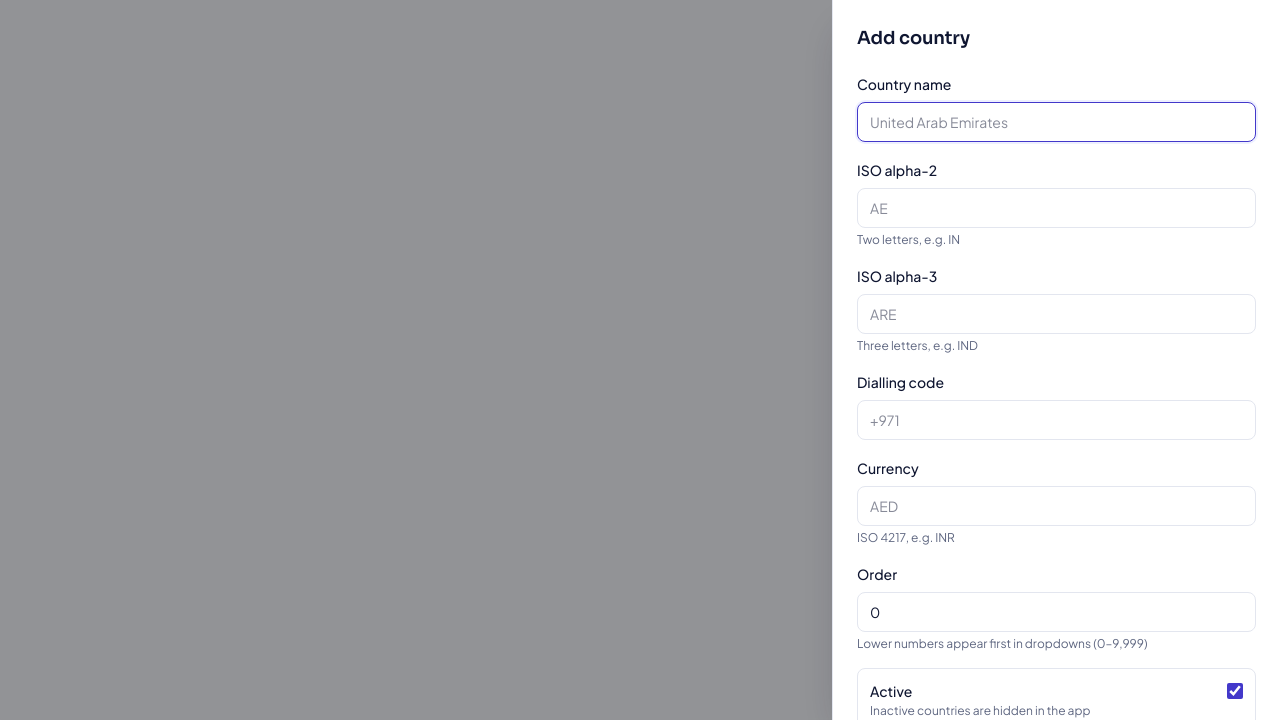
Test case: MasterFormDrawer — create › disables the buttons while saving
Type "Nepal" into the field labelled "Country name". click: (1056, 122)
box: [857, 102, 1256, 142]
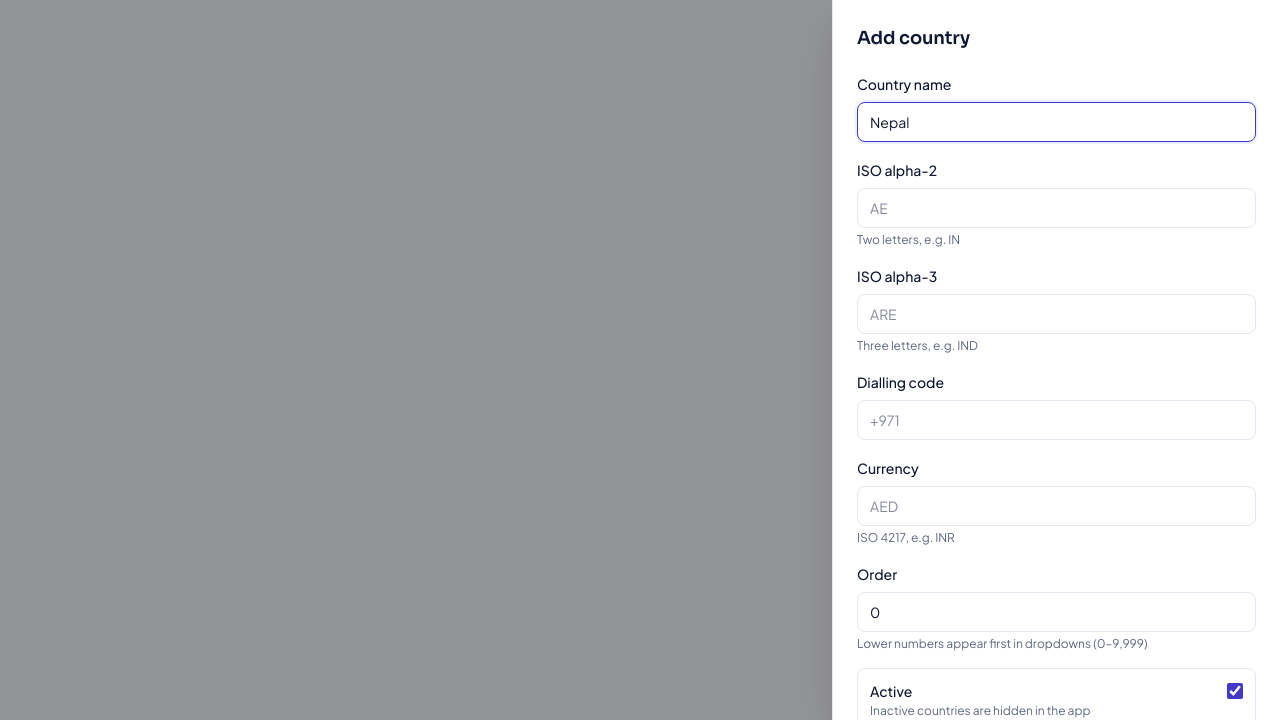
Type "NP" into the field labelled "ISO alpha-2". click: (1056, 208)
box: [857, 188, 1256, 228]
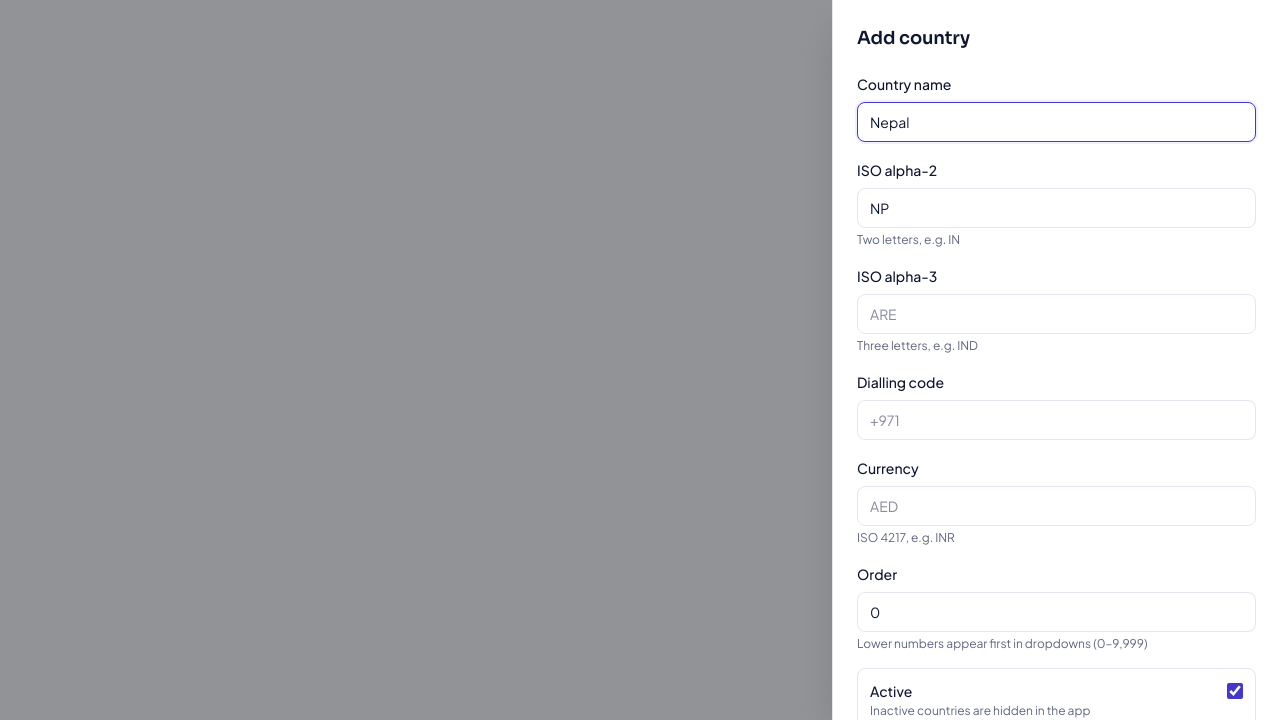
Type "NPL" into the field labelled "ISO alpha-3". click: (1056, 314)
box: [857, 294, 1256, 334]
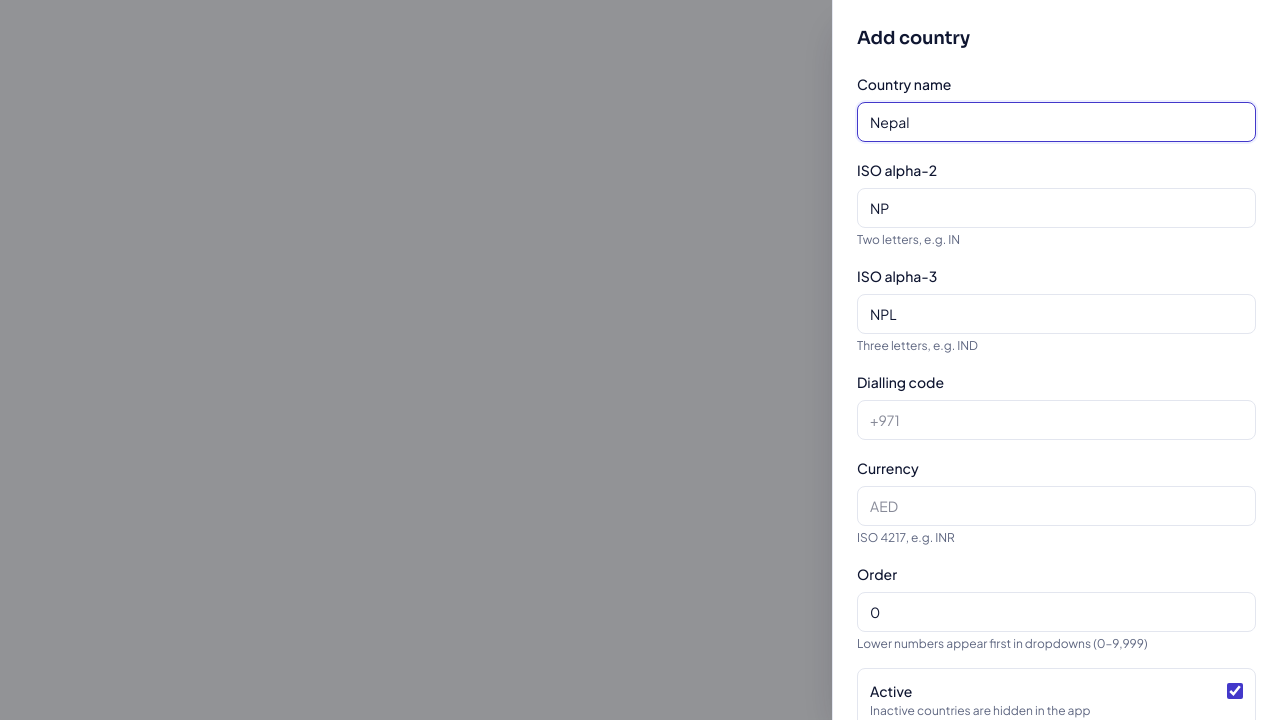
Type "+977" into the field labelled "Dialling code". click: (1056, 420)
box: [857, 400, 1256, 440]
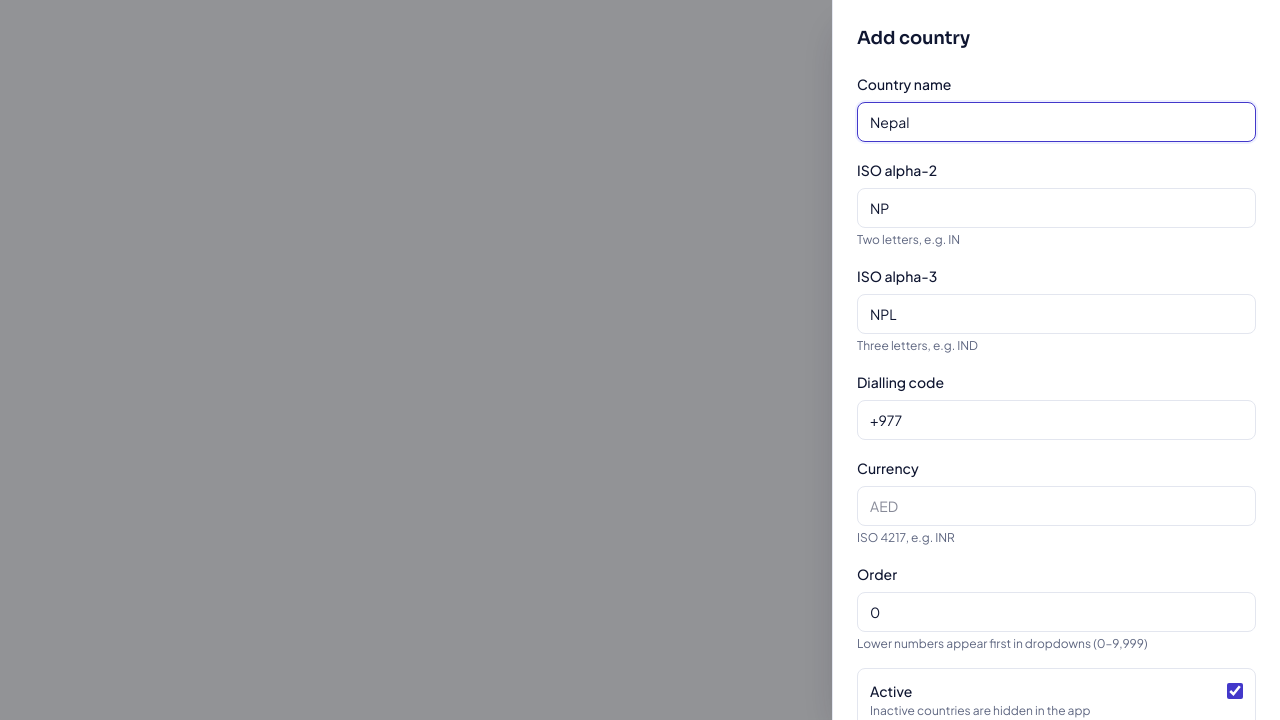
Type "NPR" into the field labelled "Currency". click: (1056, 506)
box: [857, 486, 1256, 526]
(page scrolled)
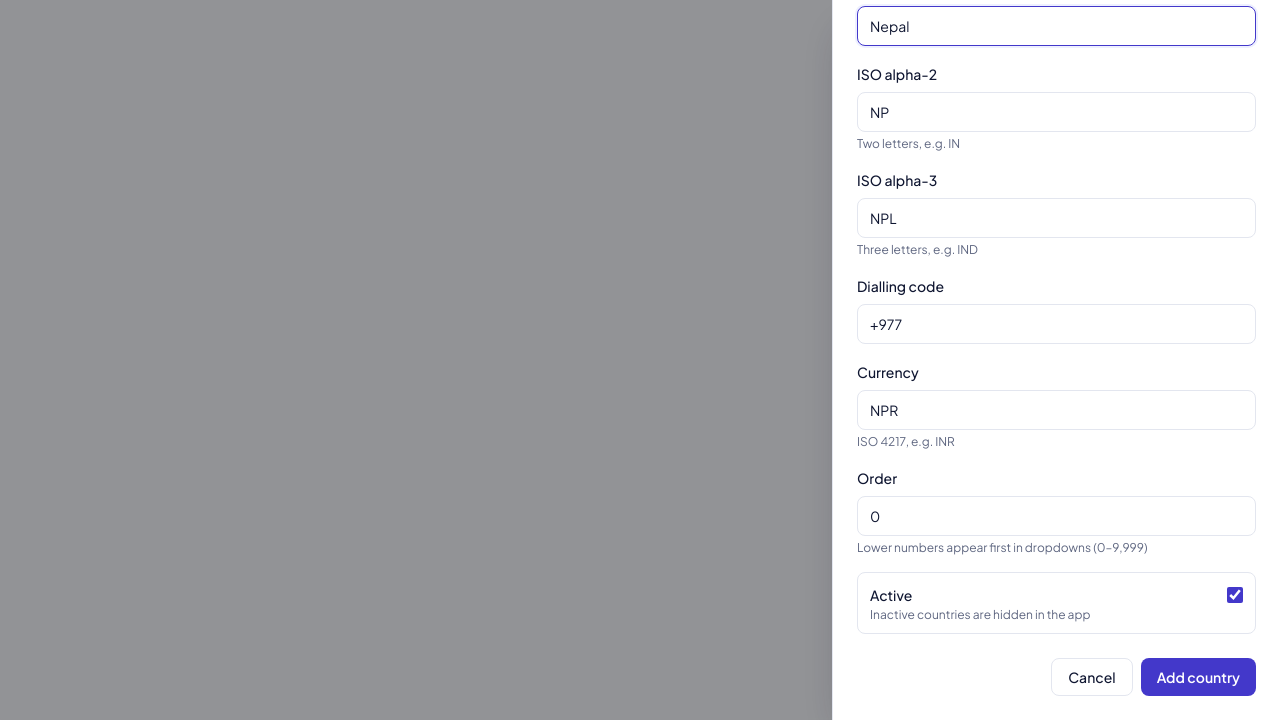
Click the button "Add country". click: (1198, 677)
box: [1141, 658, 1256, 696]
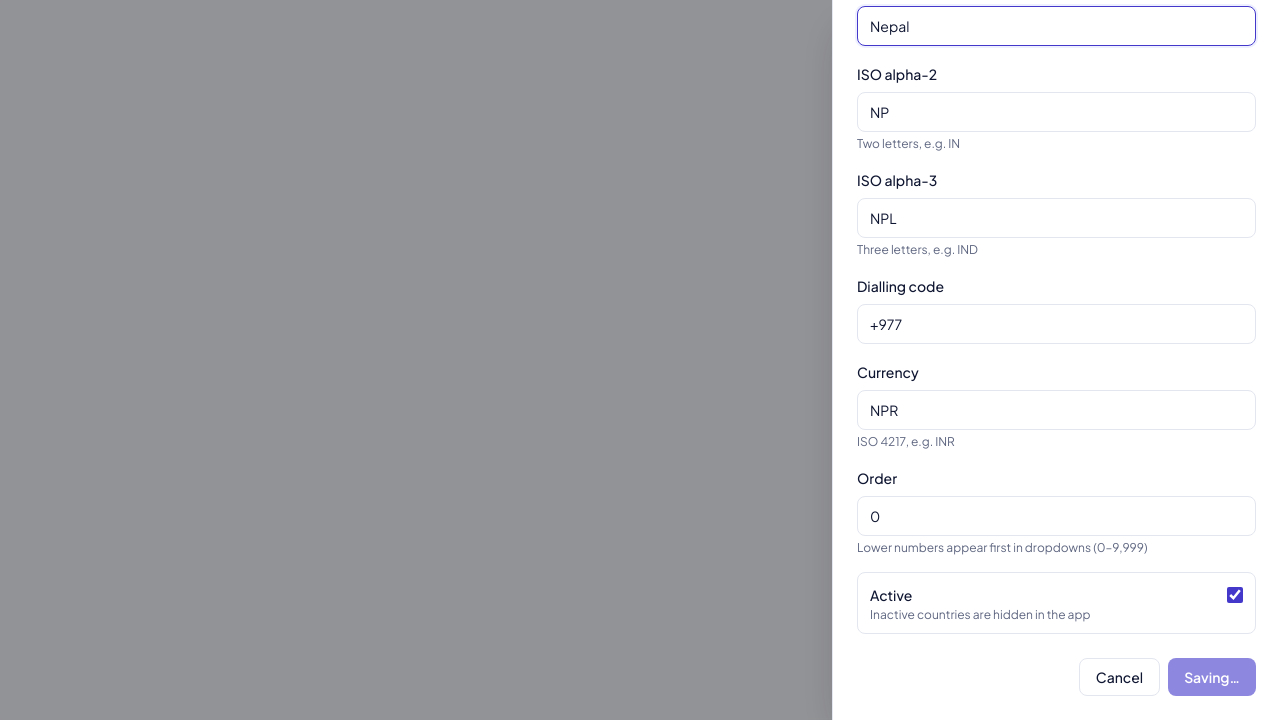
Now the button "Saving…" is disabled, box [1168, 658, 1256, 696]
Now the button "Cancel" is disabled, box [1079, 658, 1160, 696]
